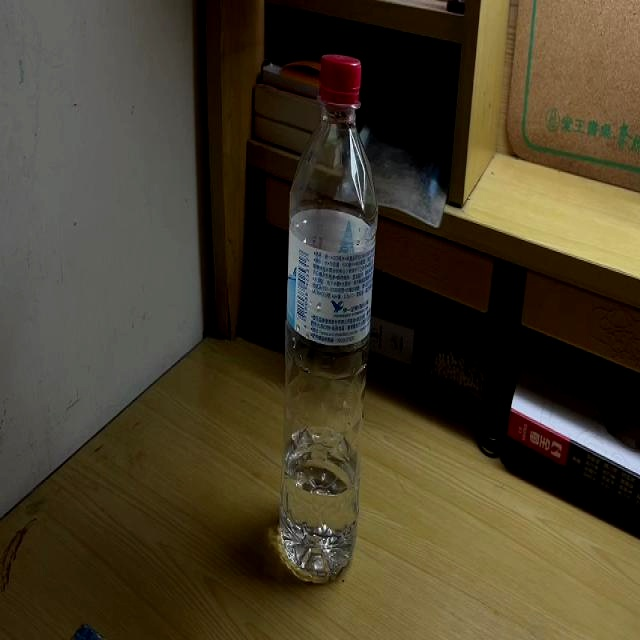Water: (282, 54, 377, 585)
